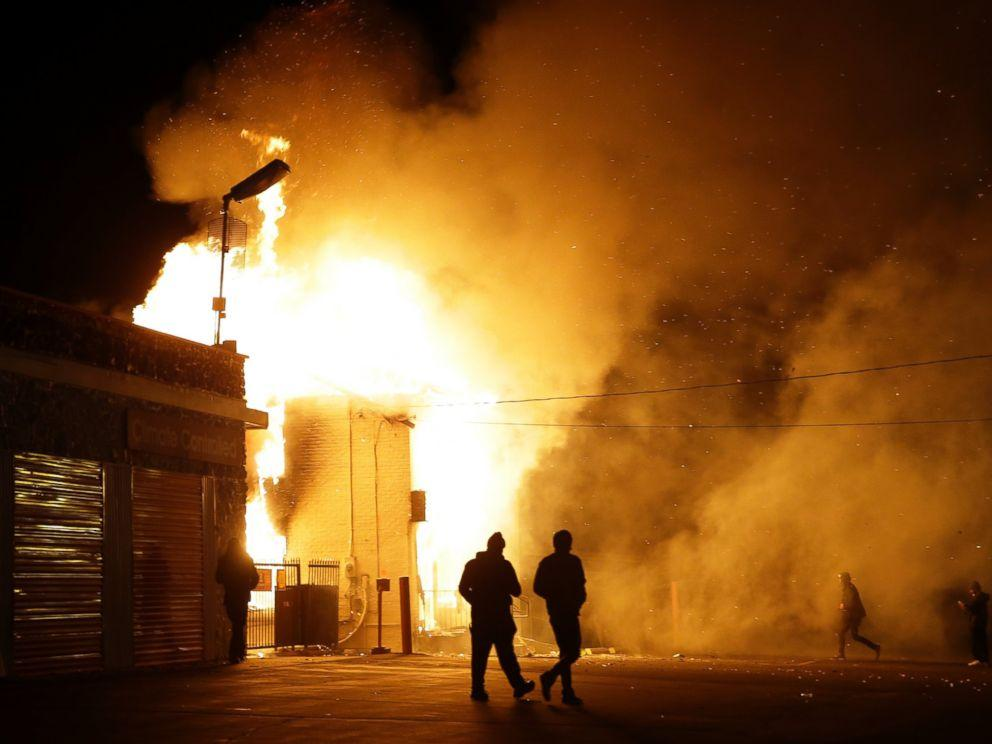Fire: (138, 197, 585, 600)
